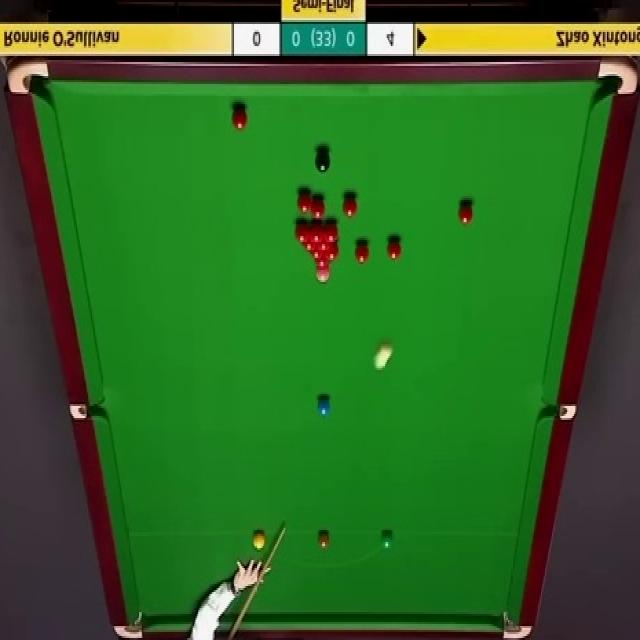black-ball: (315, 147, 331, 173)
blue-ball: (317, 398, 330, 416)
brown-ball: (317, 531, 330, 548)
green-ball: (382, 532, 396, 551)
pink-ball: (315, 266, 331, 284)
red-ball: (232, 105, 248, 131), (353, 240, 370, 264), (292, 220, 309, 244), (323, 240, 341, 262), (342, 194, 358, 218), (308, 222, 324, 245), (297, 190, 312, 214), (386, 241, 403, 262), (458, 202, 472, 227), (311, 197, 325, 220), (324, 221, 339, 242), (303, 239, 317, 253), (314, 256, 331, 267)
white-ball: (379, 342, 393, 366)
yellow-ball: (251, 530, 267, 551)
